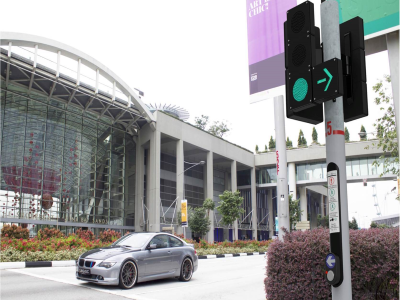trafficlight_green: (285, 13, 314, 106)
